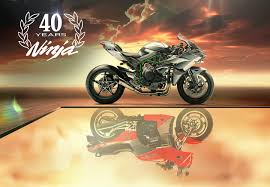motorcycle: (81, 34, 214, 109)
